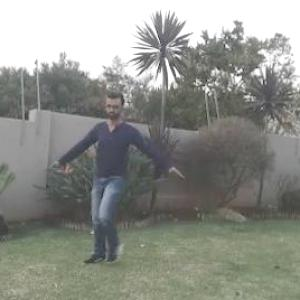land: (48, 92, 187, 262)
